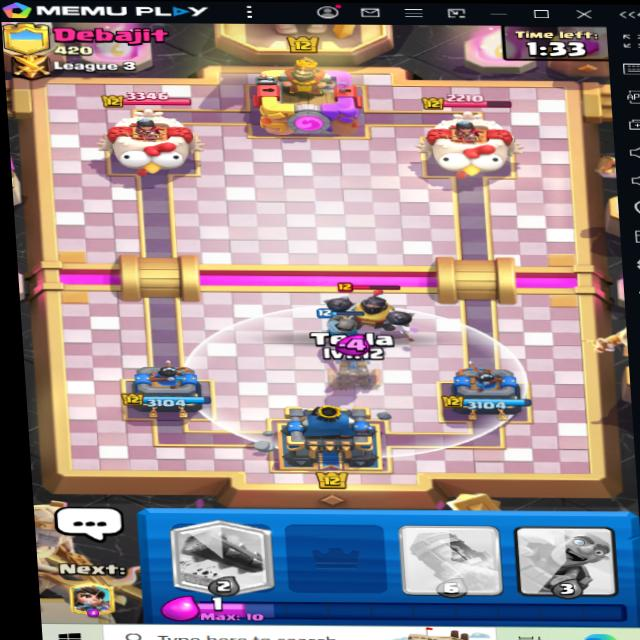mega-knight: (332, 273, 411, 339)
